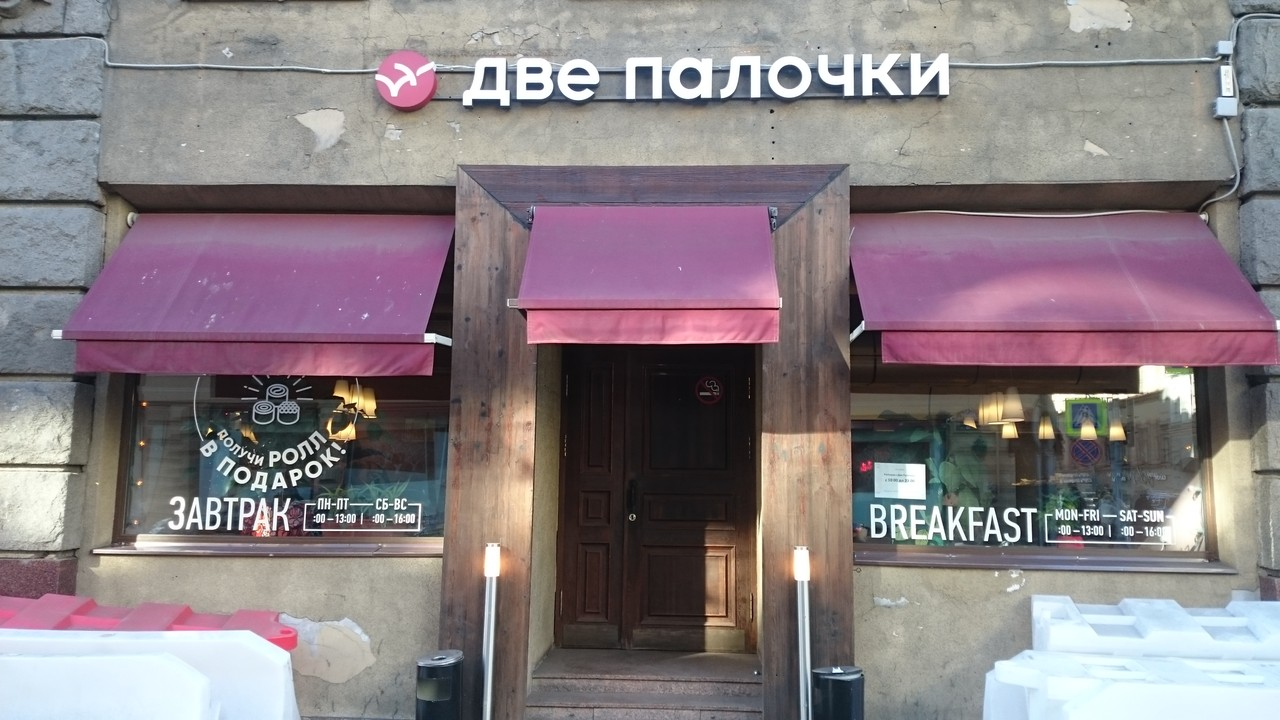door: (622, 343, 757, 648)
signboard: (377, 50, 951, 106)
window: (852, 365, 1207, 546), (116, 372, 449, 542)
